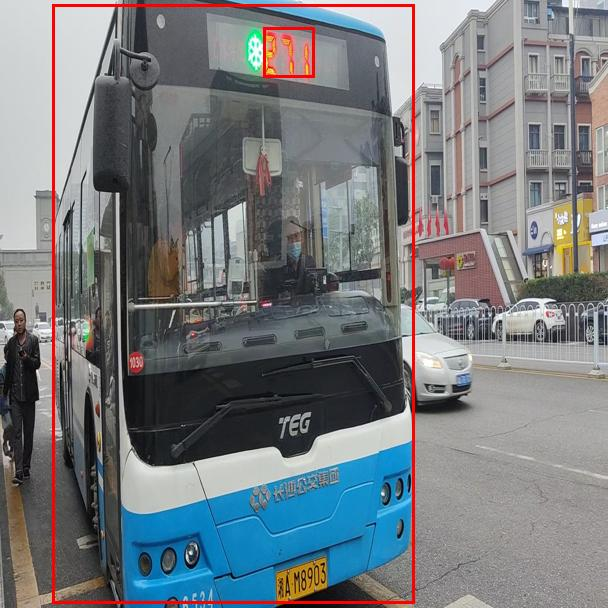bus: (52, 4, 414, 603)
screen: (263, 27, 314, 77)
